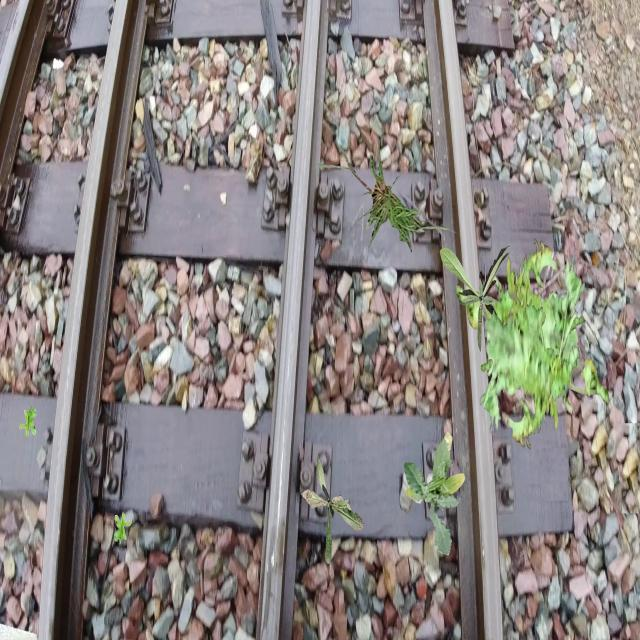Plant: (456, 239, 581, 435), (484, 254, 609, 450), (316, 133, 459, 252), (403, 431, 466, 556), (440, 246, 512, 354), (301, 452, 365, 564), (114, 512, 132, 544), (19, 406, 36, 438)
